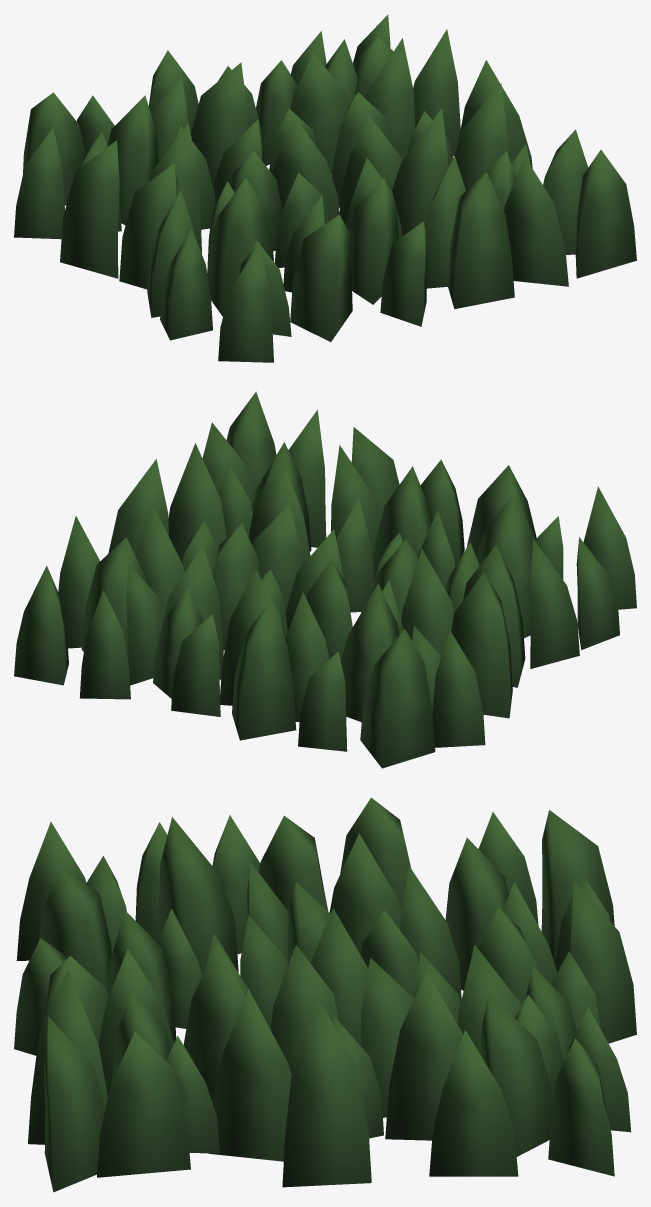
File: TopGrass_Swamp.fbx
3 views of the same model, one above another, from view 1: azimuth 30°, elevation 25°; view 2: azimuth 150°, elevation 25°; view 3: azimuth 270°, elevation 25° (orthographic). The views are drawn at different scales.
Visible parts, largest first — view 1: TopGrass_Swamp_LOD0; view 2: TopGrass_Swamp_LOD0; view 3: TopGrass_Swamp_LOD0.
Part boxes in pixels (bbox=[...]): TopGrass_Swamp_LOD0: bbox=[14, 14, 636, 362]; TopGrass_Swamp_LOD0: bbox=[14, 391, 636, 768]; TopGrass_Swamp_LOD0: bbox=[14, 797, 636, 1192].
Size of what is drawn, in the model's own units: 1.06 by 0.3125 by 1.03.
